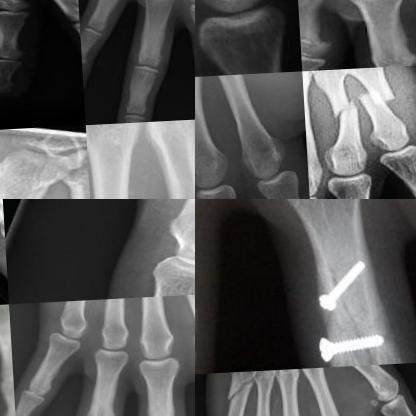fracture: (303, 248, 396, 370), (352, 83, 403, 126), (316, 93, 361, 134), (220, 373, 258, 410)
